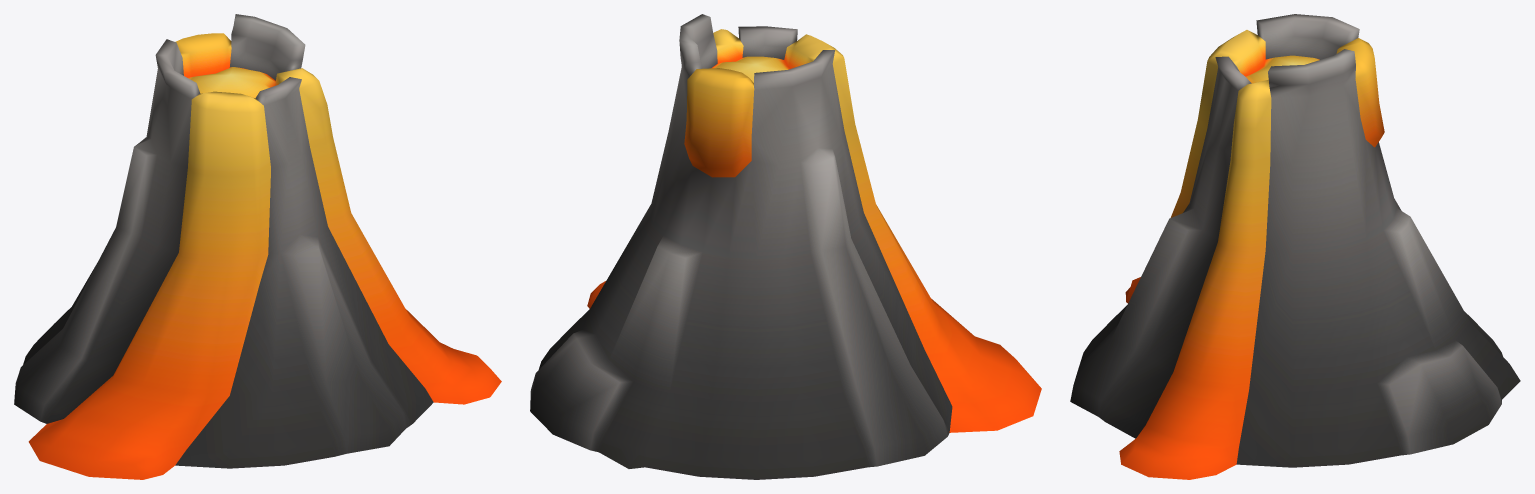
The model's file is m_Volcano02_A.fbx.
3 renders of one model, left to right at view 1: azimuth 30°, elevation 25°; view 2: azimuth 150°, elevation 25°; view 3: azimuth 270°, elevation 25°, orthographic. The views are drawn at different scales.
Parts seen in each view (by area): view 1: m_Volcano02_A; view 2: m_Volcano02_A; view 3: m_Volcano02_A.
Boxes of the visible parts, x1,y1,x2,y2 form: m_Volcano02_A: (14, 14, 501, 479); m_Volcano02_A: (530, 14, 1041, 479); m_Volcano02_A: (1070, 14, 1520, 479).
Bounding box in the file's own units: 2844 × 2097 × 2497.
